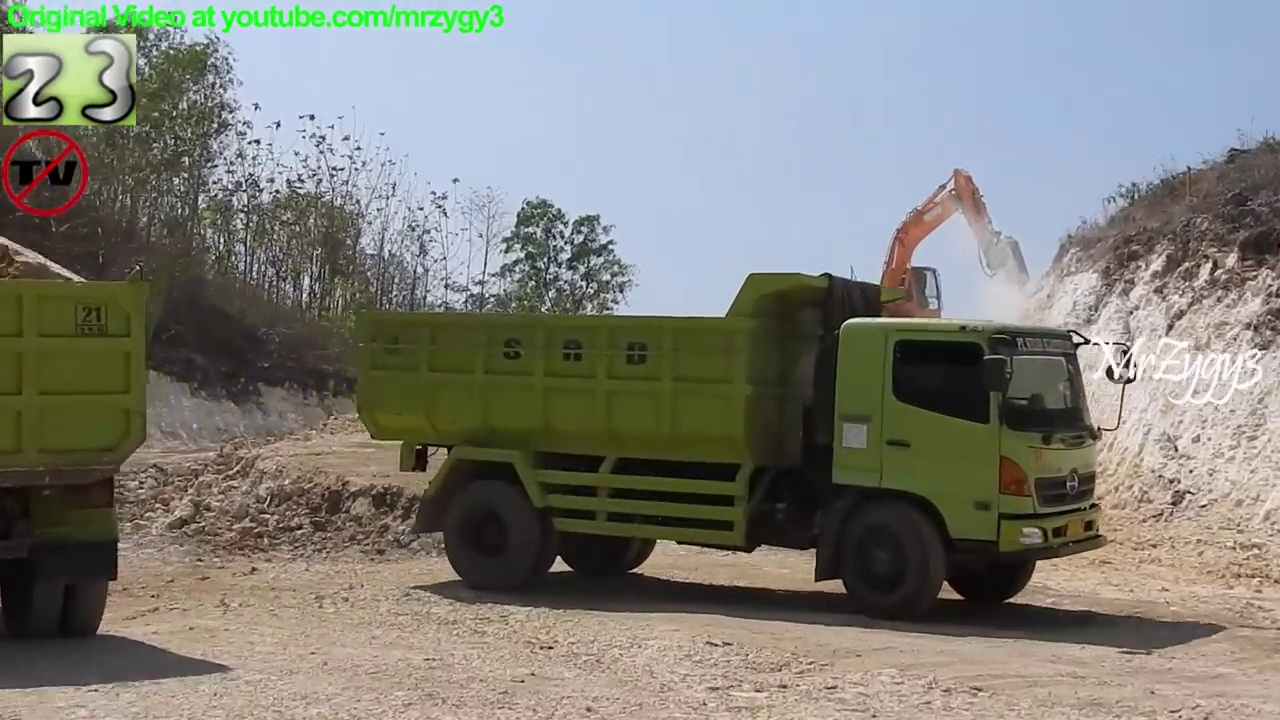excavator: (800, 162, 1038, 405)
truck: (347, 265, 1143, 623), (1, 224, 157, 651)
